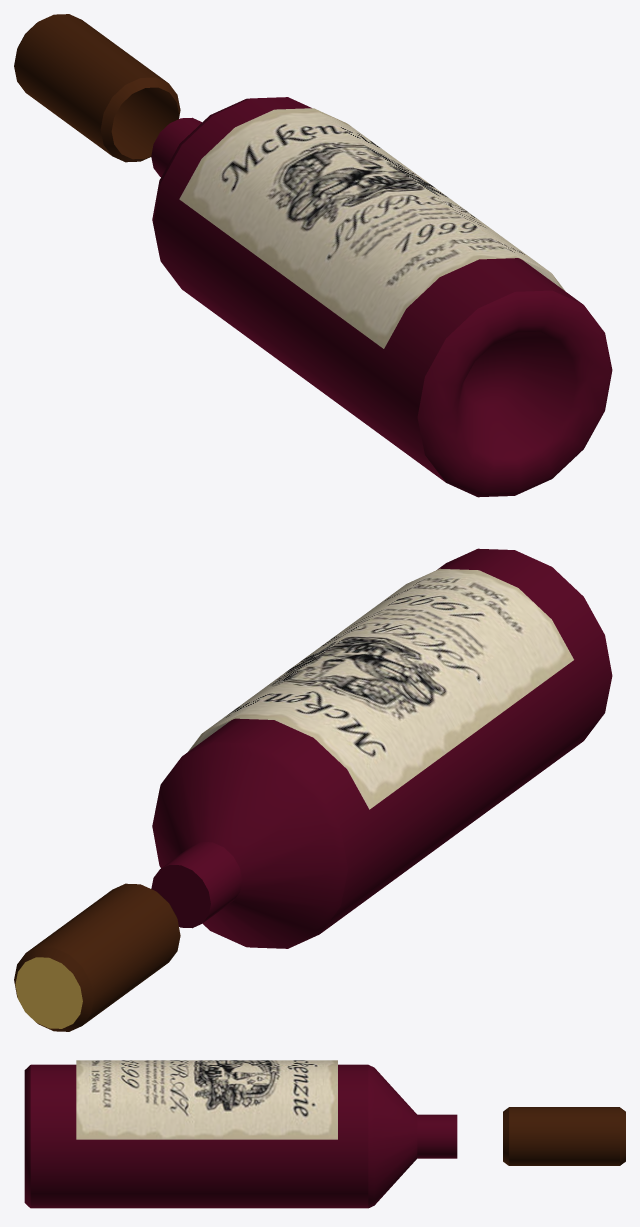
File: Fit_JiuPing_1X3.FBX
The picture shows the model from 3 angles, top to bottom: view 1: azimuth 30°, elevation 25°; view 2: azimuth 150°, elevation 25°; view 3: azimuth 270°, elevation 25°; orthographic projection. The views are drawn at different scales.
Parts seen in each view (by area): view 1: Box002; view 2: Box002; view 3: Box002.
Part boxes in pixels (left/top/right/bottom): Box002: left=14, top=14, right=612, bottom=497; Box002: left=14, top=548, right=612, bottom=1031; Box002: left=24, top=1060, right=625, bottom=1208.
Size of the model in its own units: 0.7488 by 0.7501 by 3.01.
